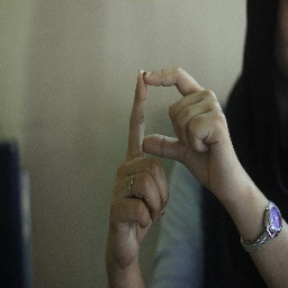D: (119, 59, 212, 176)
